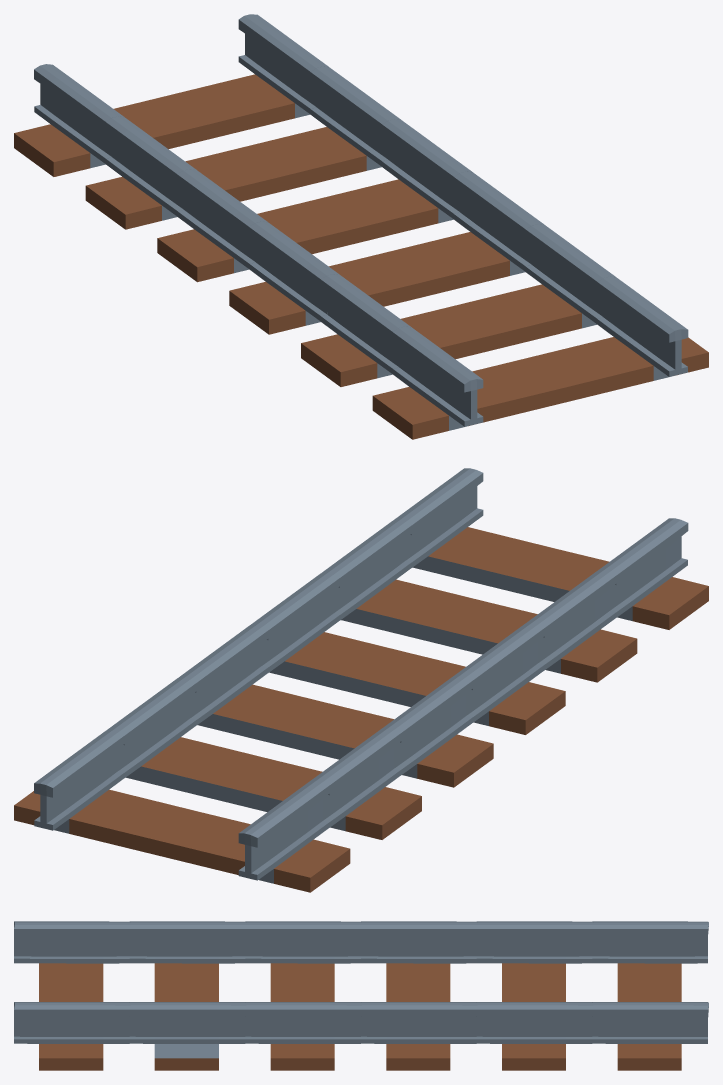
The model's file is trilho_reto.glb.
3 renders of one model, top to bottom at view 1: azimuth 30°, elevation 25°; view 2: azimuth 150°, elevation 25°; view 3: azimuth 270°, elevation 25°, orthographic. The views are drawn at different scales.
Parts seen in each view (by area): view 1: trilho_reto; view 2: trilho_reto; view 3: trilho_reto.
Part boxes in pixels (left/top/right/bottom): trilho_reto: left=14, top=14, right=708, bottom=439; trilho_reto: left=14, top=468, right=708, bottom=892; trilho_reto: left=14, top=921, right=708, bottom=1070.
Bounding box in the file's own units: 8.32 × 1.6 × 20.96.
